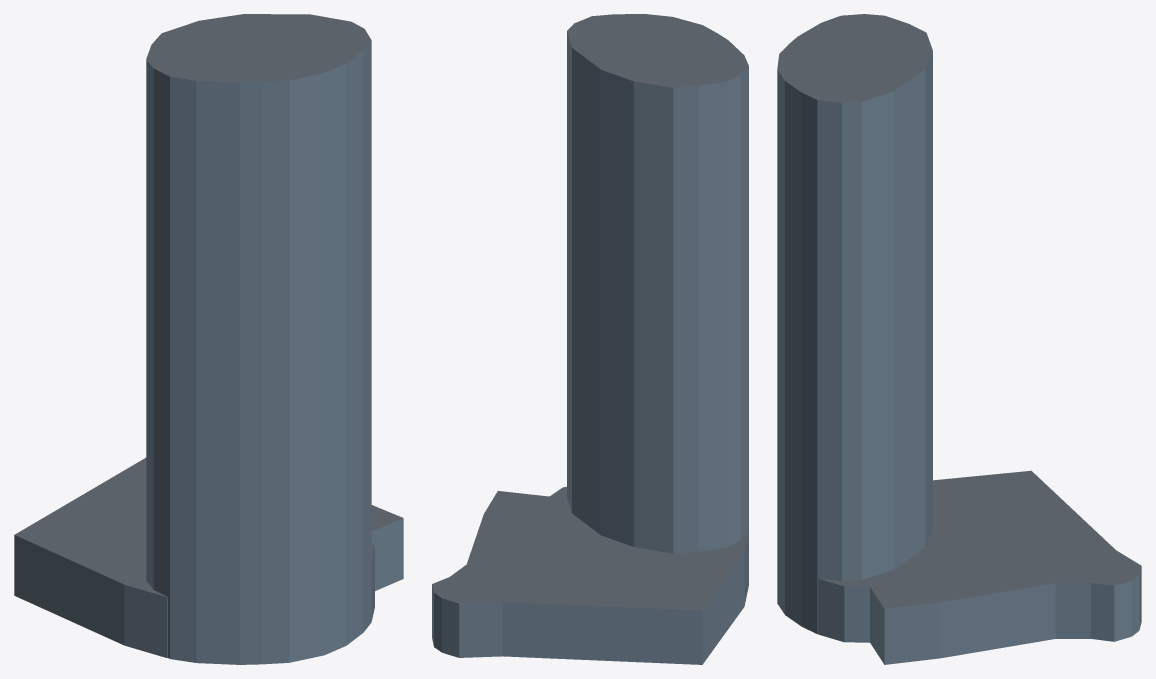
3 renders of one model, left to right at view 1: azimuth 30°, elevation 25°; view 2: azimuth 150°, elevation 25°; view 3: azimuth 270°, elevation 25°, orthographic. The views are drawn at different scales.
Parts seen in each view (by area): view 1: HP-w792384681; view 2: HP-w792384681; view 3: HP-w792384681.
Part boxes in pixels (box(x1,y1,x2,y2)): HP-w792384681: box(14, 14, 403, 664); HP-w792384681: box(432, 14, 748, 664); HP-w792384681: box(777, 14, 1141, 664).
Size of the model in its own units: 71.66 by 129 by 79.76.
